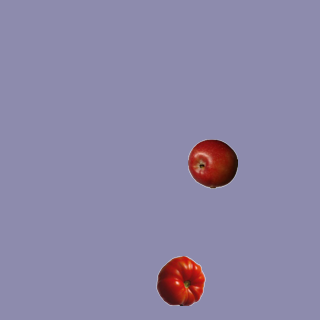Apple Braeburn: (187, 138, 237, 188)
Tomato 3: (155, 255, 205, 305)
